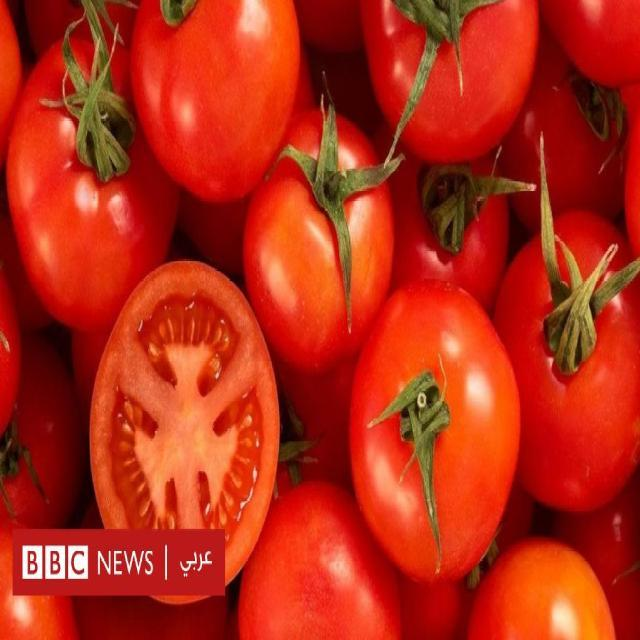kirmizi: (0, 0, 638, 640), (54, 60, 304, 236)
